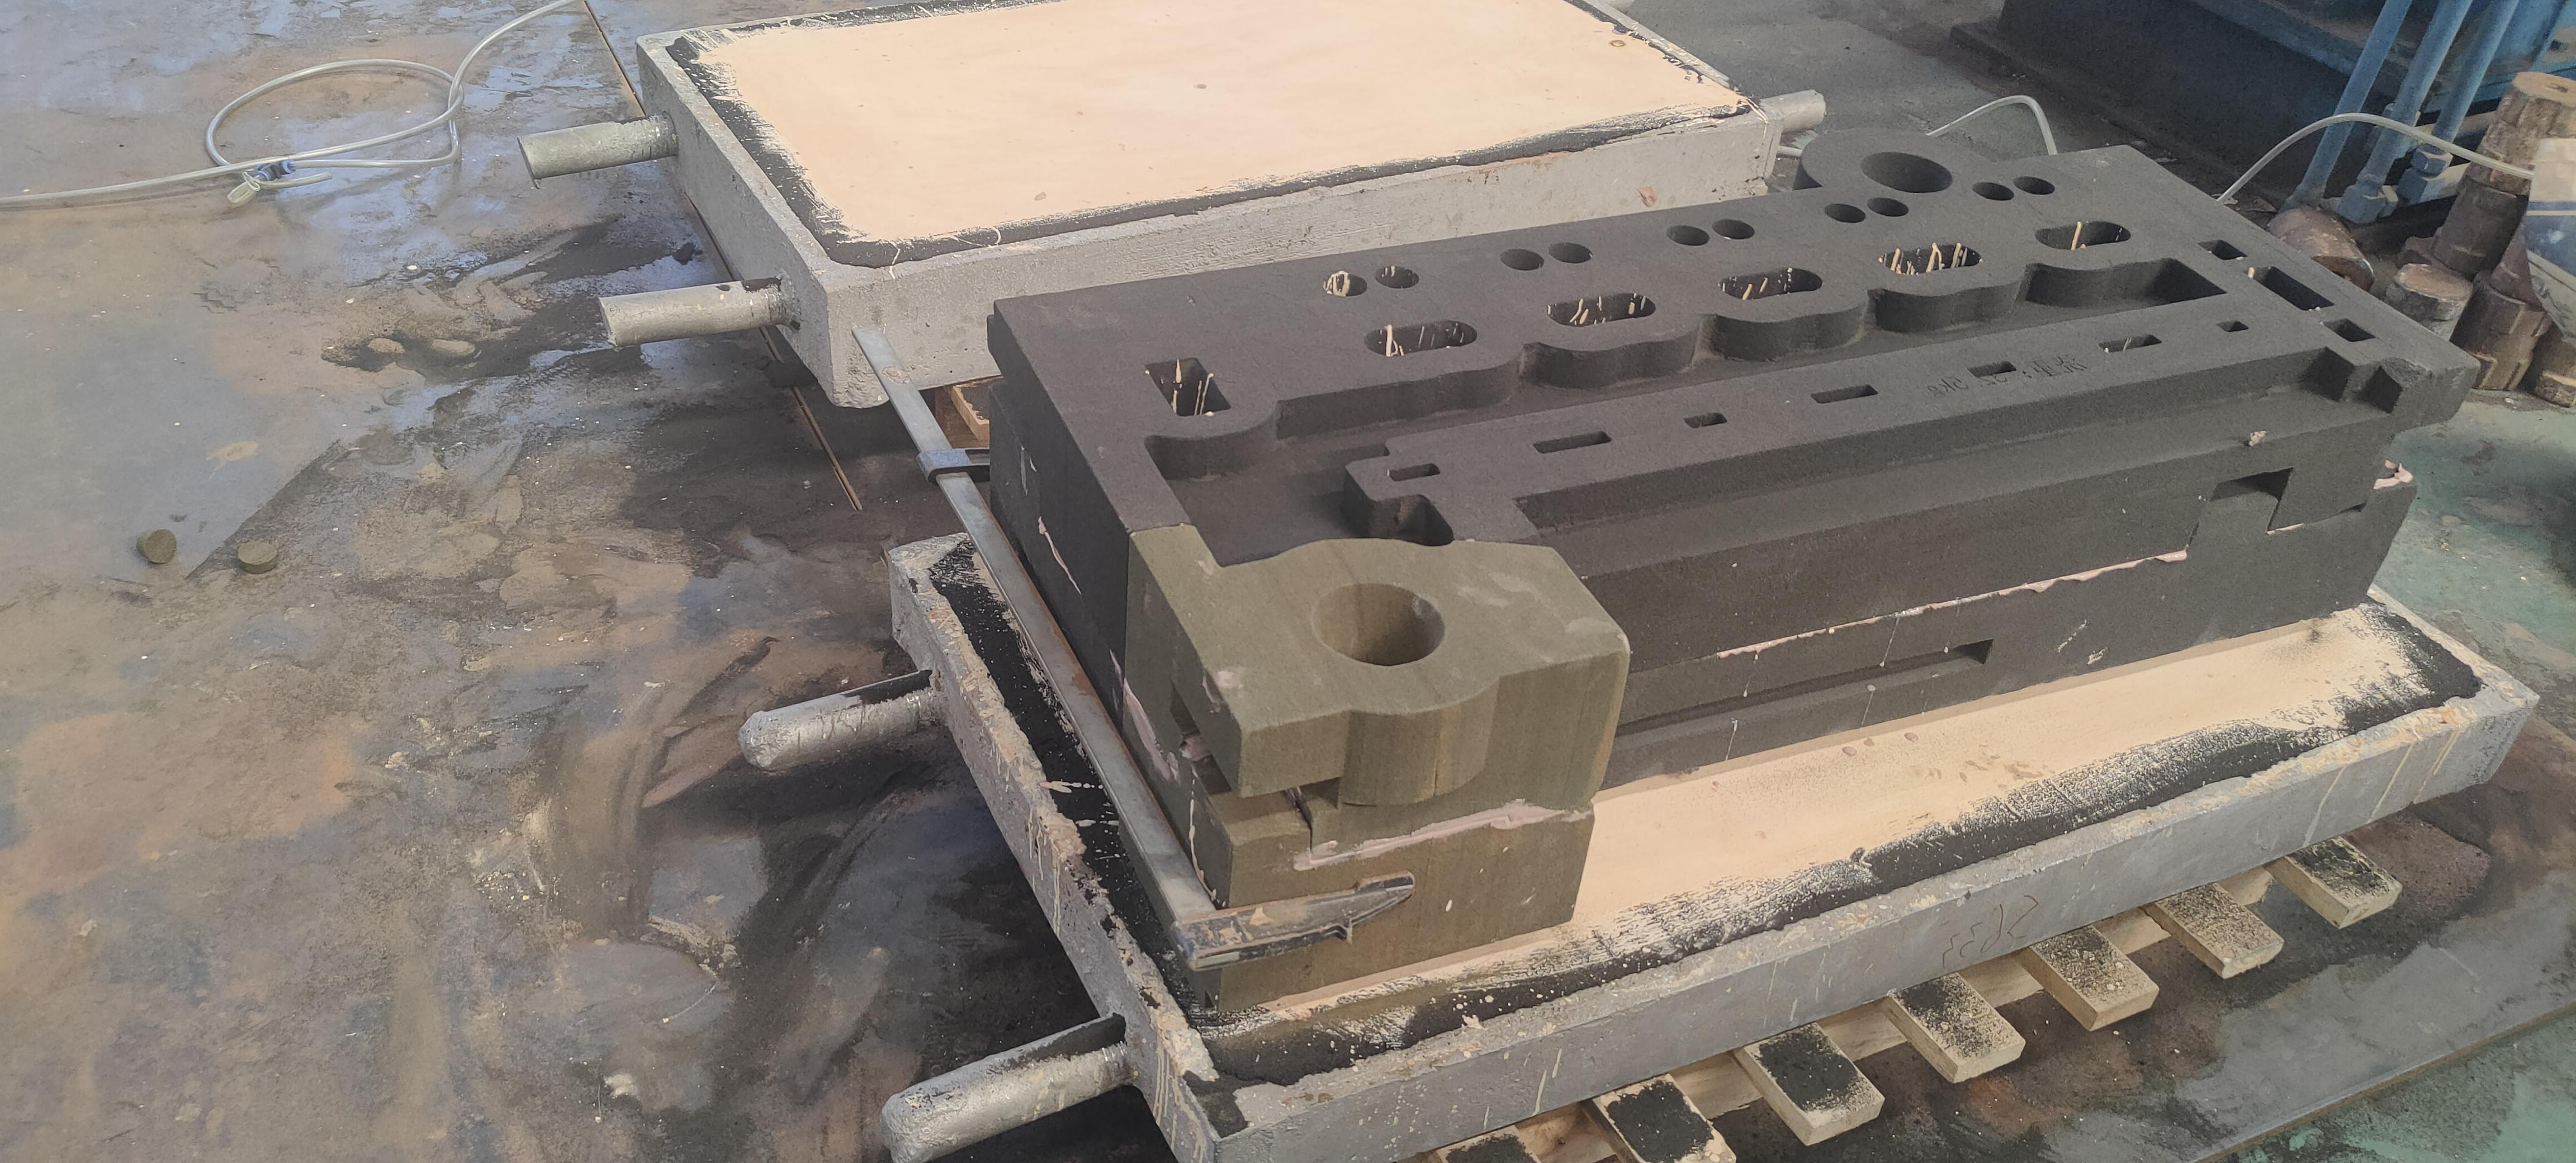pouring hole: (1313, 583, 1446, 667), (1860, 153, 1953, 192)
